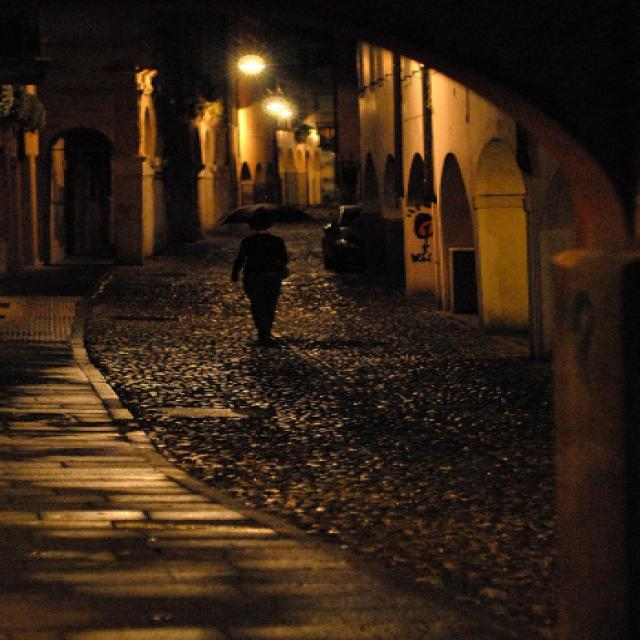People: (197, 213, 310, 361)
car: (324, 185, 385, 308)
